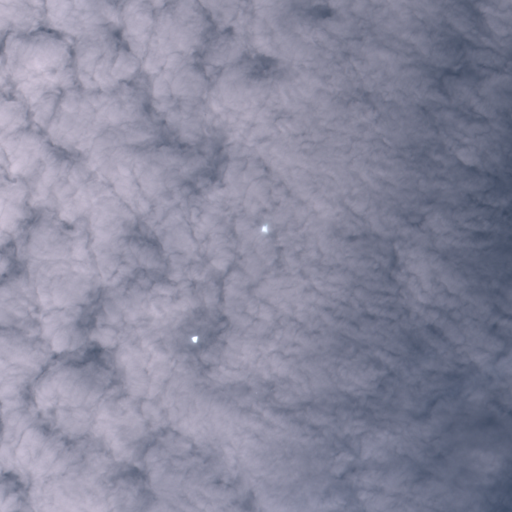Iceberg: (192, 336, 197, 342), (262, 226, 266, 231)
